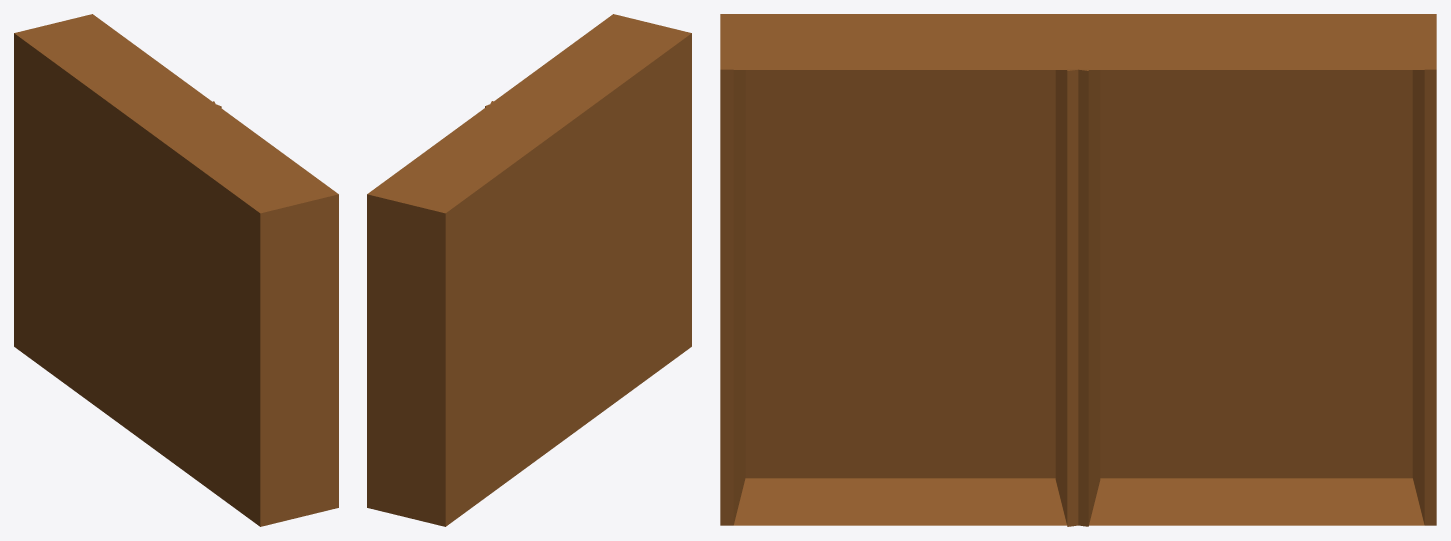
File: librarywall.glb
The picture shows the model from 3 angles, left to right: view 1: azimuth 30°, elevation 25°; view 2: azimuth 150°, elevation 25°; view 3: azimuth 270°, elevation 25°; orthographic projection. The views are drawn at different scales.
Parts seen in each view (by area): view 1: basebookshelf.003; view 2: basebookshelf.003; view 3: basebookshelf.003.
Part boxes in pixels (x1,y1,x2,y2): basebookshelf.003: [14, 14, 338, 526]; basebookshelf.003: [367, 14, 691, 526]; basebookshelf.003: [720, 14, 1436, 526].
Size of the model in its own units: 1.63 by 6.05 by 8.61.
